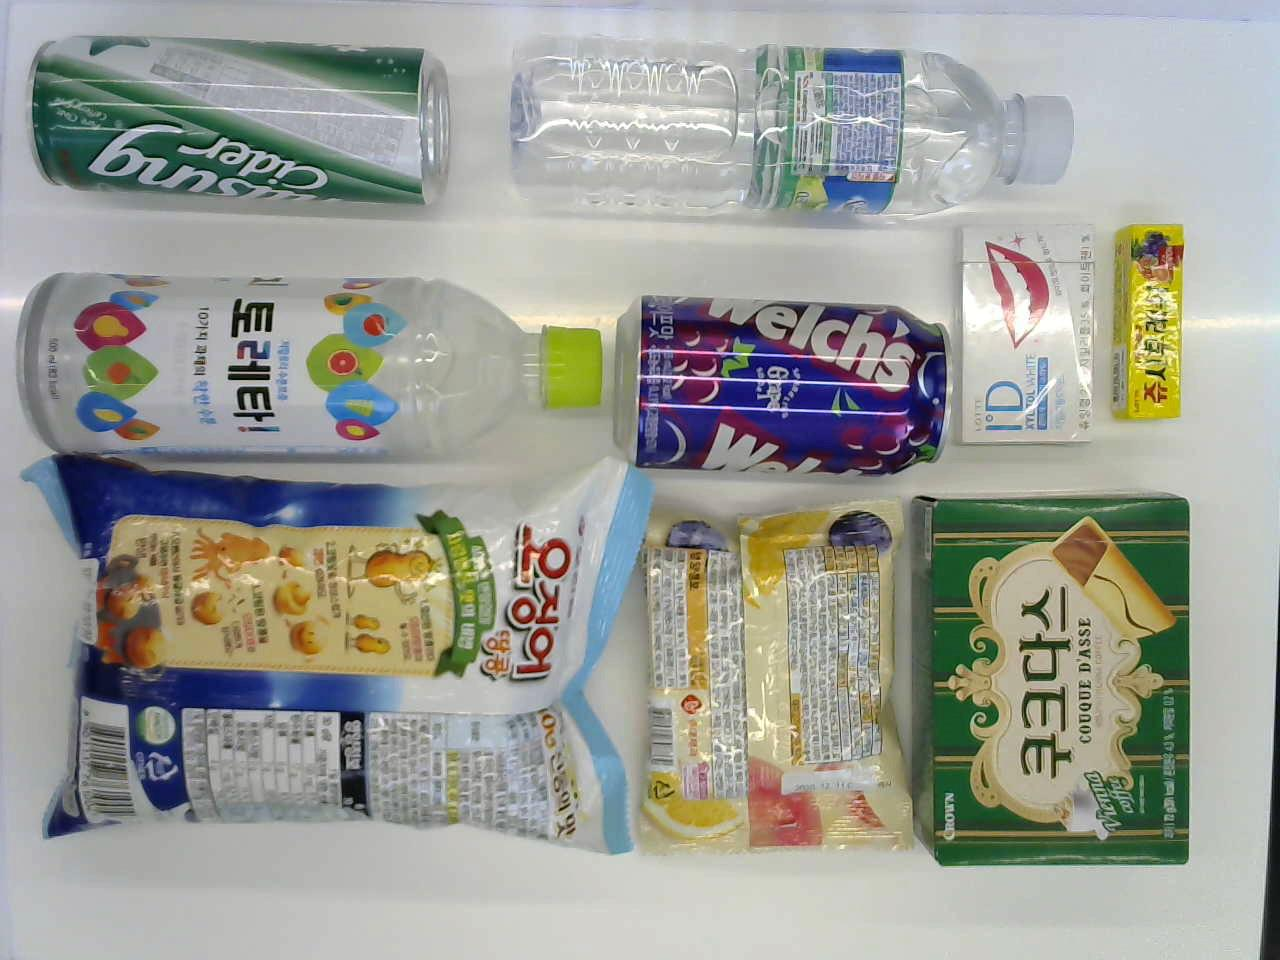ID_gum: (953, 218, 1104, 453)
cidar: (19, 31, 458, 214)
couque_coffee: (911, 493, 1195, 870)
gumi_gumi: (624, 480, 908, 857)
juicyfresh: (1113, 217, 1187, 418)
samdasu: (502, 28, 1073, 229)
squid_peanut: (28, 466, 640, 840)
toreta: (15, 264, 604, 465)
welchs: (610, 292, 947, 472)
